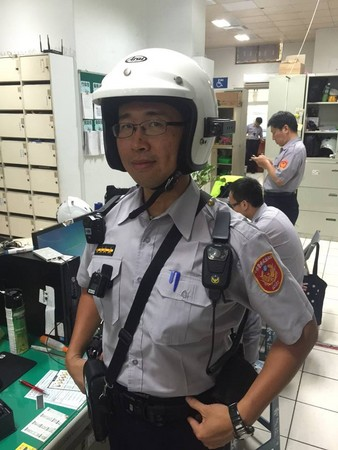helmet: (83, 55, 220, 166)
